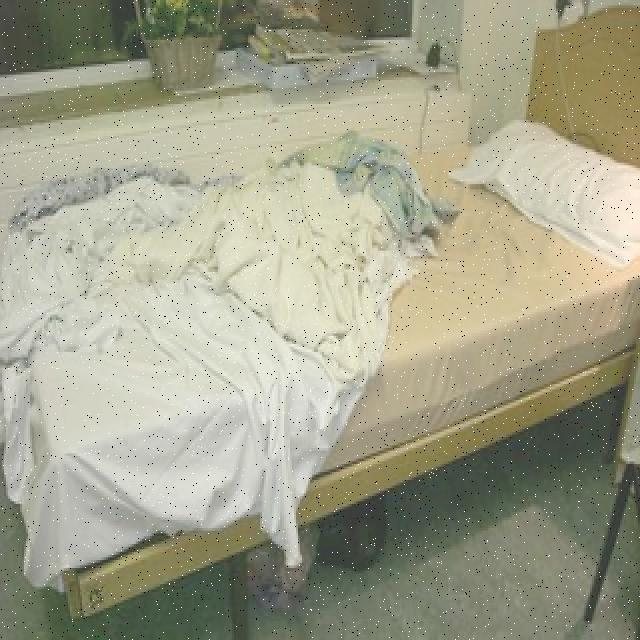bed: (0, 110, 634, 557)
